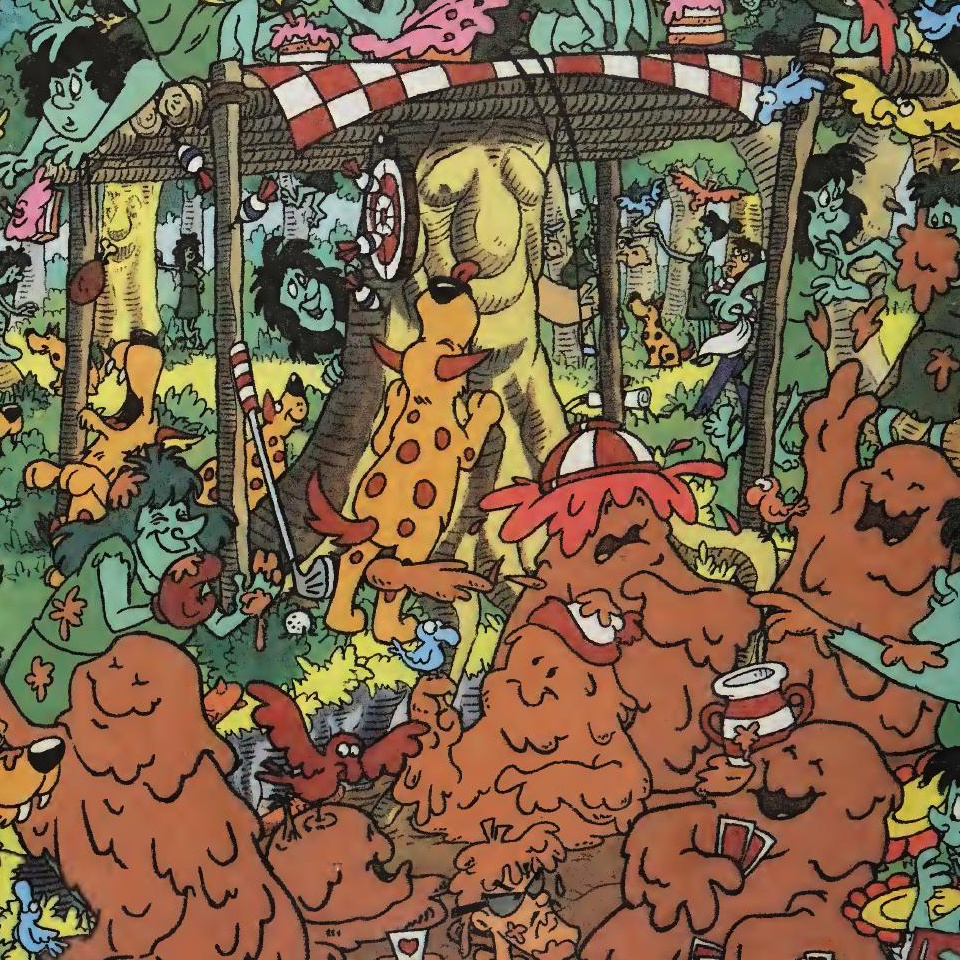waldo: (710, 239, 766, 303)
